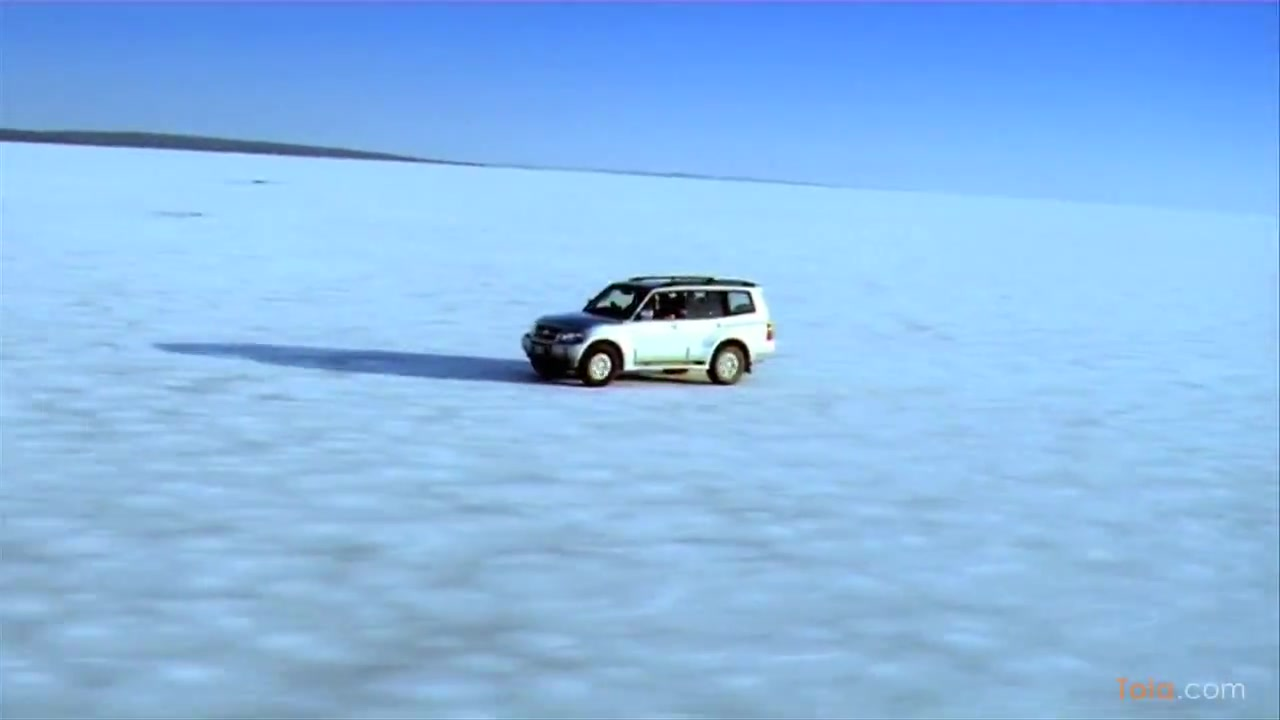car: (526, 277, 784, 393)
